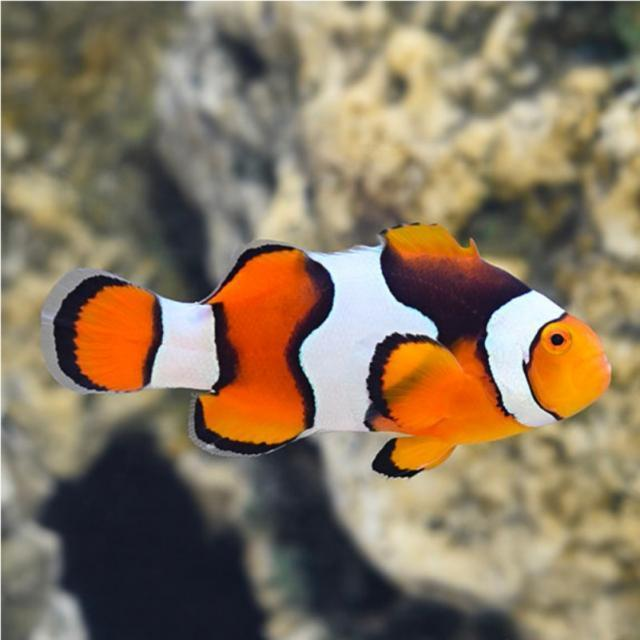ClownFish: (47, 222, 613, 483)
